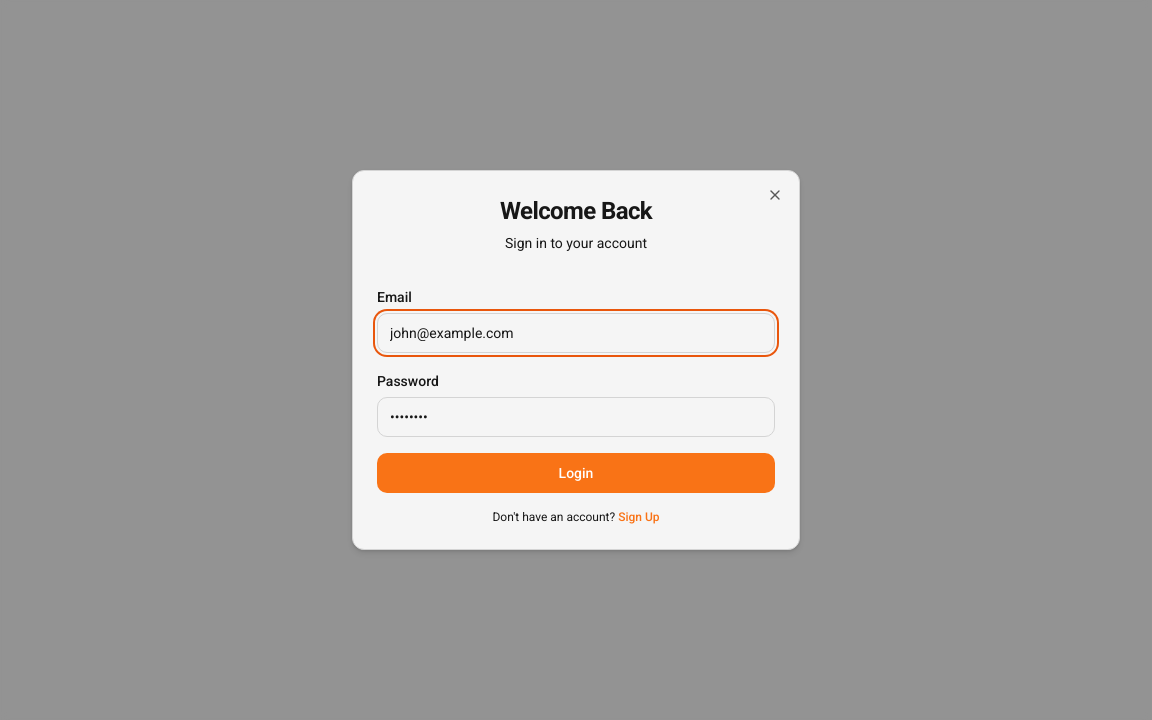
Test case: LoginDialog Component › TC-L05: should show validation error for empty password
In the field labelled "Email": (576, 333) [377,313,775,353], type "user@example.com"
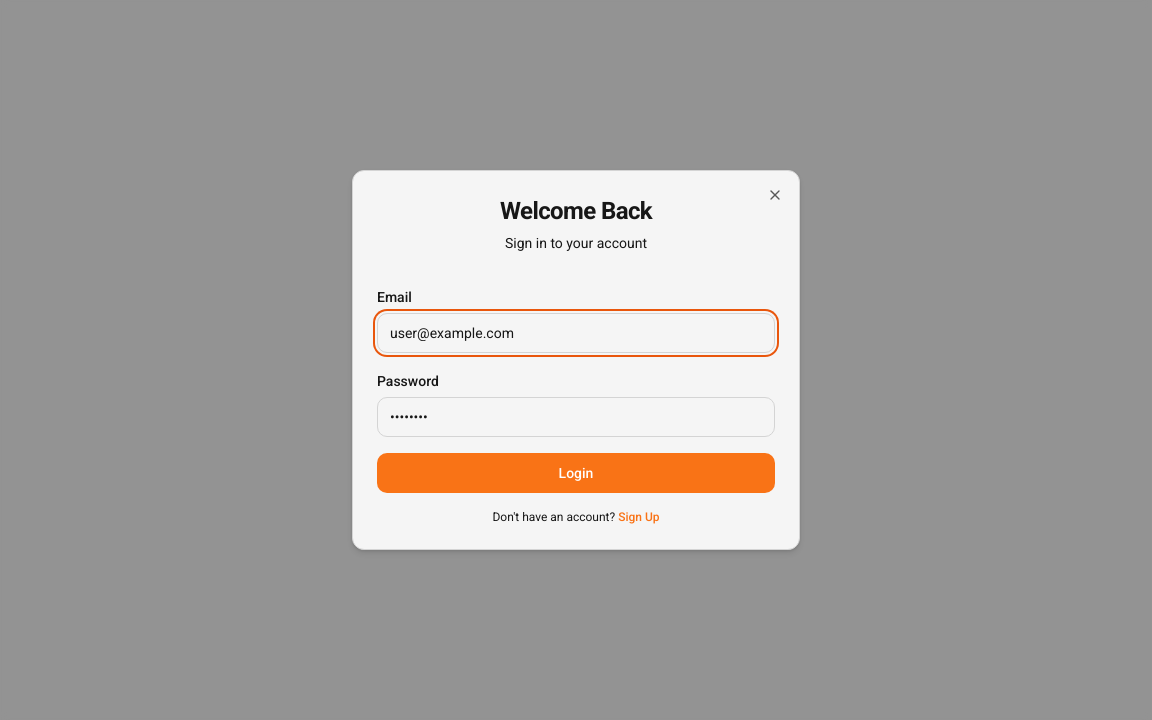
Click the button "Login": (576, 473) [377,453,775,493]
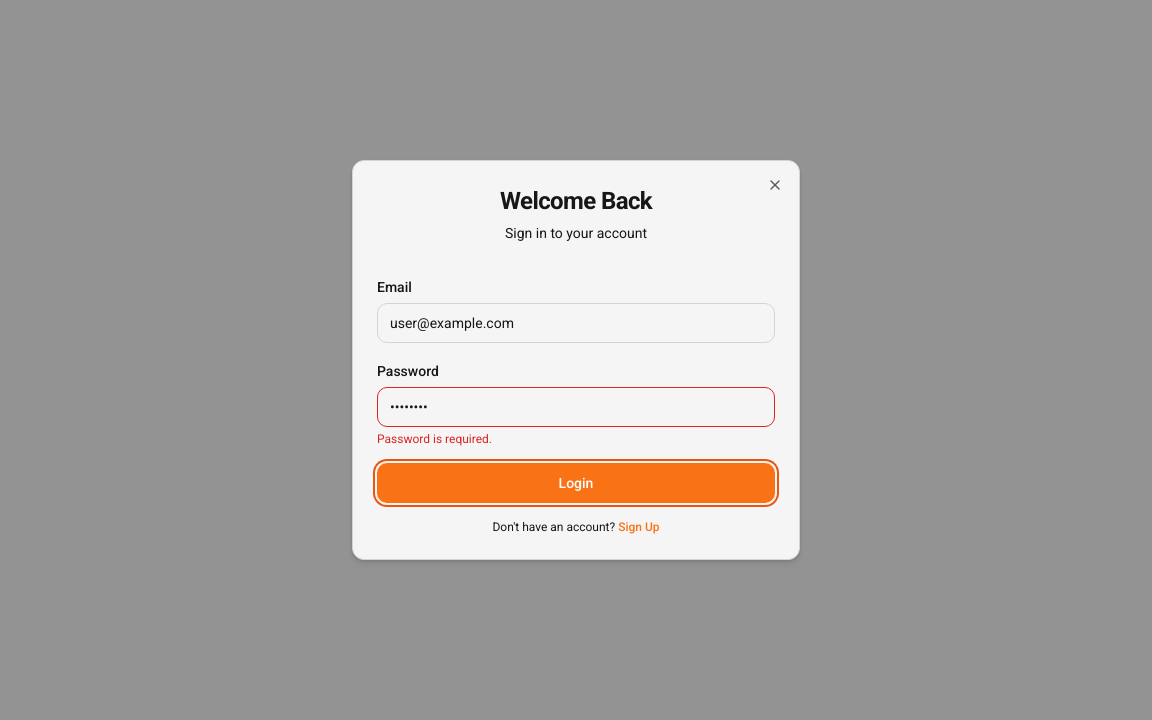
Expected: the text "Password is required." is shown, [377,432,492,446]
